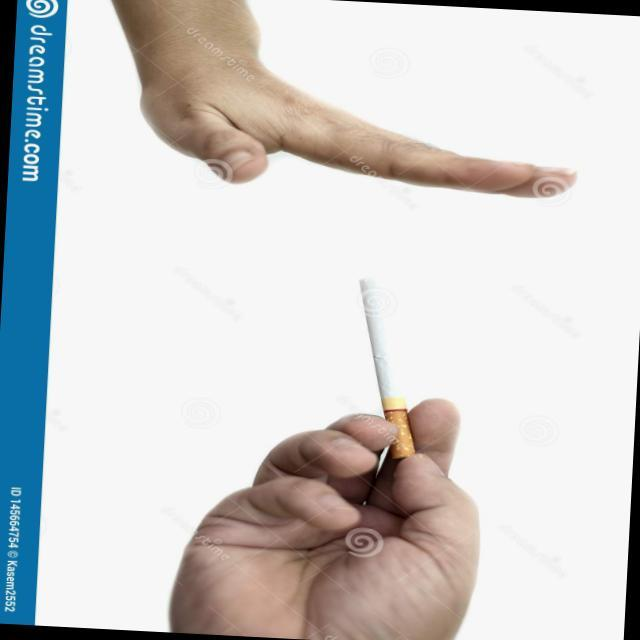cigarette: (344, 272, 425, 459)
